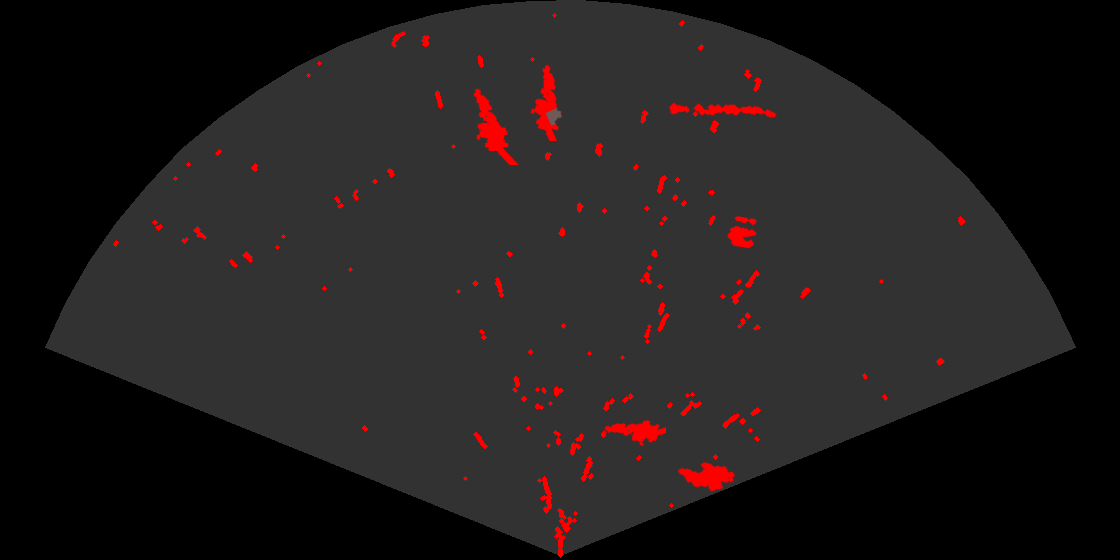AUV: (676, 460, 737, 493)
ball: (726, 215, 758, 250)
chain: (668, 101, 778, 120)
frogman: (472, 87, 520, 165), (529, 63, 563, 141), (602, 418, 666, 448)
